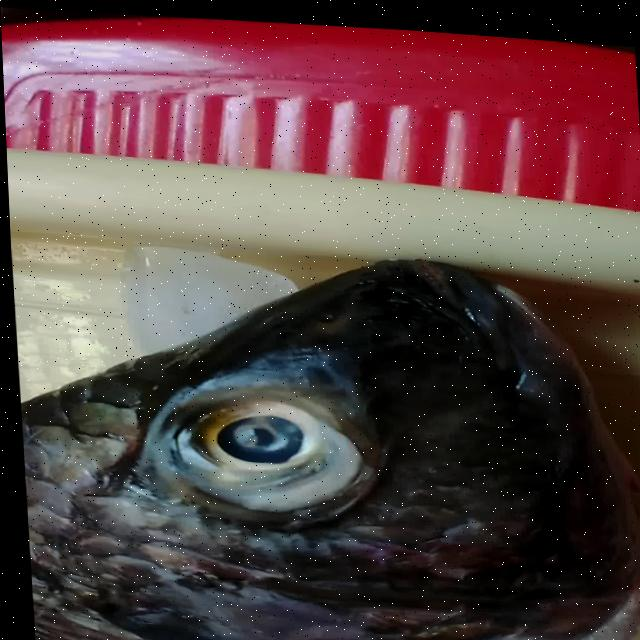Fresh: (130, 344, 379, 521)
